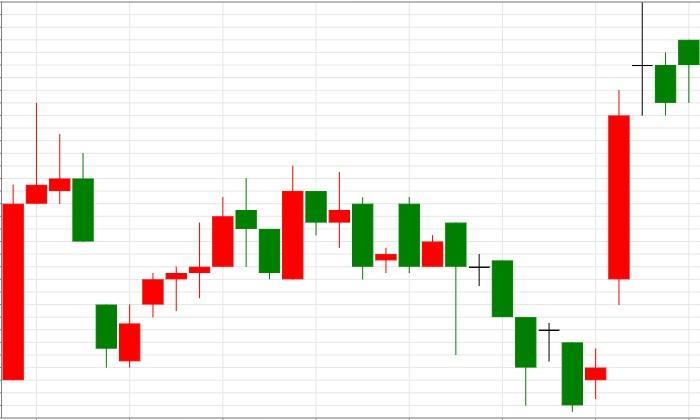evening_star_fall: (119, 177, 279, 368)
